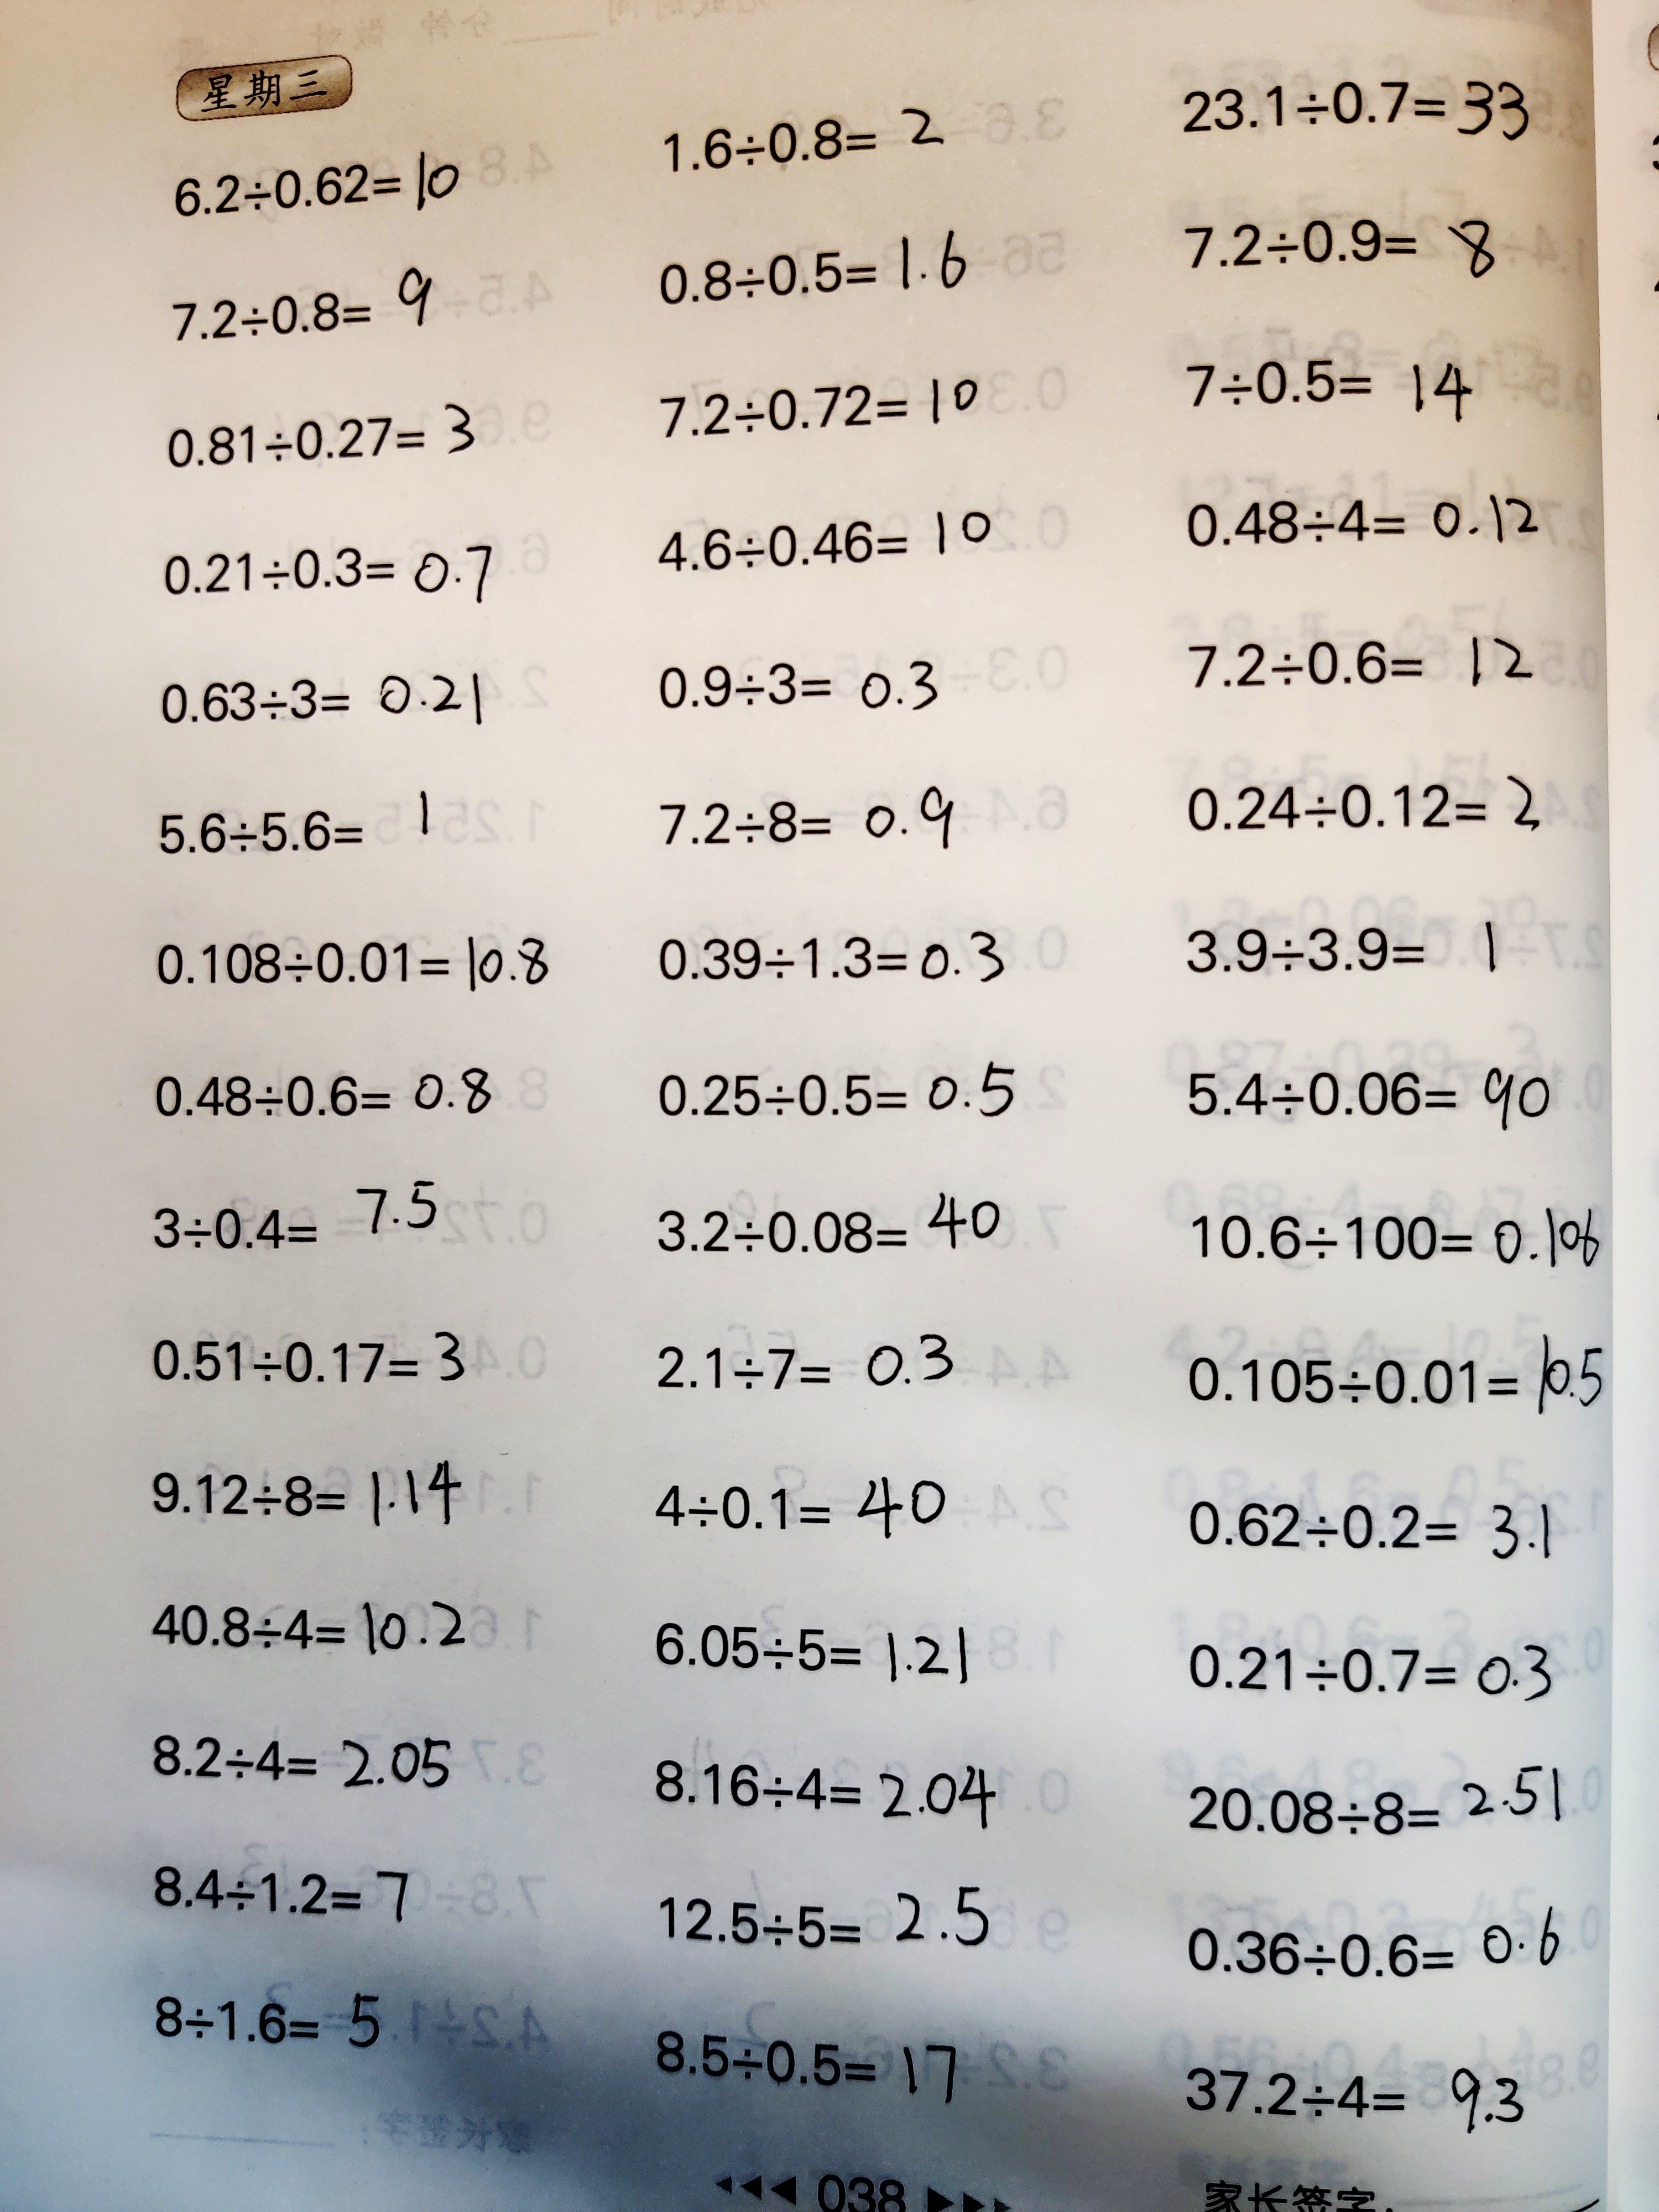equation: (1165, 740, 1562, 853), (135, 914, 564, 1017), (1177, 1616, 1569, 1729), (638, 1861, 1006, 1979), (1175, 1745, 1571, 1854), (1172, 1327, 1607, 1426), (1172, 1476, 1566, 1584), (638, 1173, 1016, 1286), (1182, 1041, 1566, 1149), (1160, 2046, 1542, 2154), (1162, 892, 1528, 1005), (633, 764, 984, 880), (1175, 1188, 1605, 1281), (145, 517, 499, 630), (638, 1597, 982, 1709), (1172, 598, 1537, 702), (1177, 1902, 1578, 1996), (643, 1741, 999, 1846), (653, 916, 1011, 1017), (124, 1313, 472, 1416), (645, 1056, 1030, 1149), (140, 1577, 492, 1678), (145, 774, 465, 885), (650, 351, 992, 455), (143, 1046, 501, 1144), (138, 1707, 470, 1813), (1170, 62, 1545, 156), (638, 2012, 975, 2116), (133, 656, 501, 750), (131, 1450, 477, 1548), (1165, 481, 1547, 567), (645, 500, 1009, 591), (1170, 332, 1489, 435), (640, 1317, 975, 1413), (648, 1462, 963, 1563), (155, 394, 497, 486), (648, 632, 956, 733), (1175, 204, 1501, 298), (655, 226, 979, 320), (138, 1168, 446, 1267), (662, 93, 970, 187), (160, 255, 453, 353), (143, 1834, 426, 1933), (133, 1976, 415, 2070), (153, 137, 470, 214)
